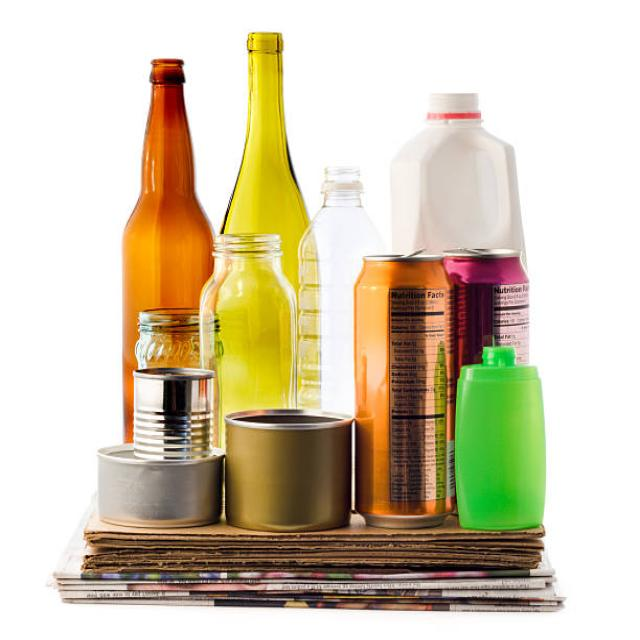cardboard: (89, 541, 537, 574)
glass: (116, 42, 213, 277), (226, 20, 308, 228)
metal: (352, 253, 462, 534), (228, 405, 343, 528), (130, 366, 218, 458)
paper: (47, 584, 565, 633)
plastic: (392, 81, 525, 240), (455, 350, 551, 532)
